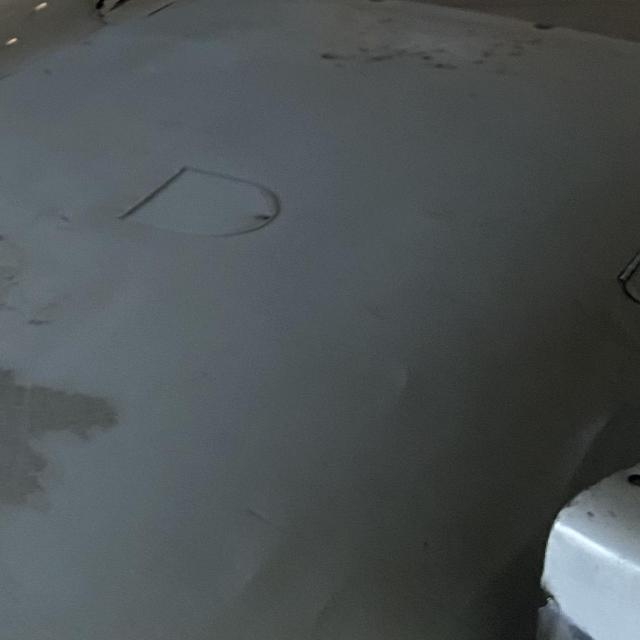Crack: (86, 0, 216, 19)
